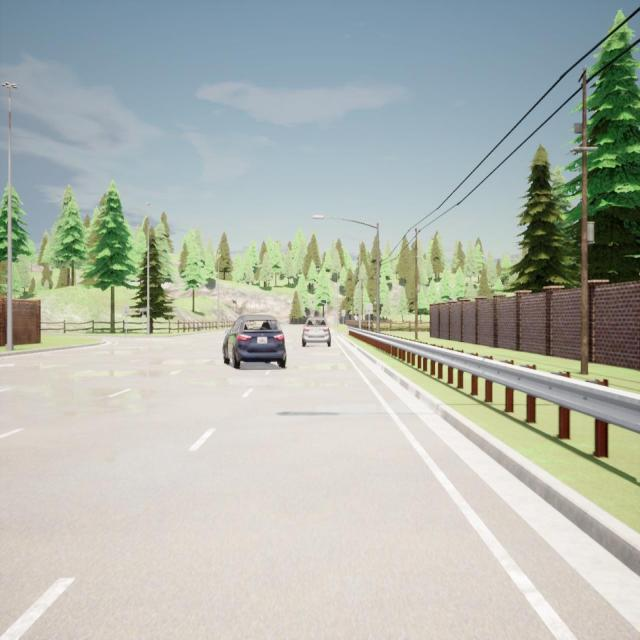Traffic_Signs: (366, 304, 372, 314), (341, 309, 346, 317), (124, 306, 128, 315)
Vehicle: (223, 315, 286, 367), (302, 316, 331, 348)
